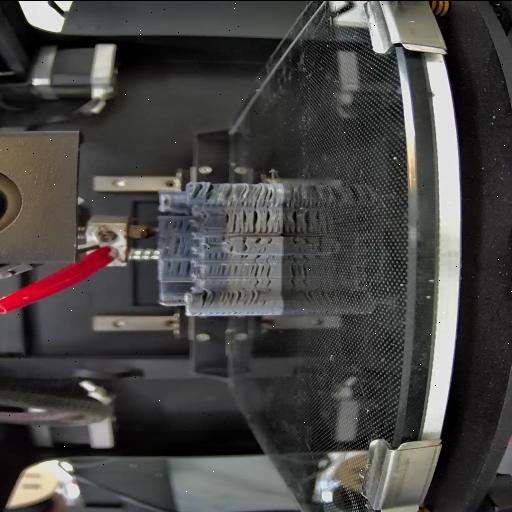cracks: (224, 182, 276, 208), (200, 288, 258, 306), (242, 208, 278, 233), (192, 182, 216, 202), (164, 260, 192, 277), (208, 263, 242, 276), (174, 235, 192, 257), (222, 212, 240, 232), (248, 265, 274, 277), (238, 254, 275, 262), (168, 220, 192, 232), (247, 278, 275, 286), (205, 234, 223, 243), (206, 252, 226, 260), (240, 237, 250, 252), (256, 236, 274, 244), (227, 242, 235, 252)
